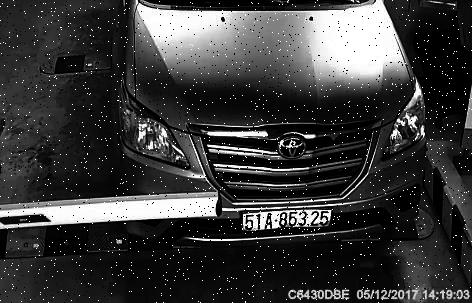License-plate: (241, 208, 343, 235)
